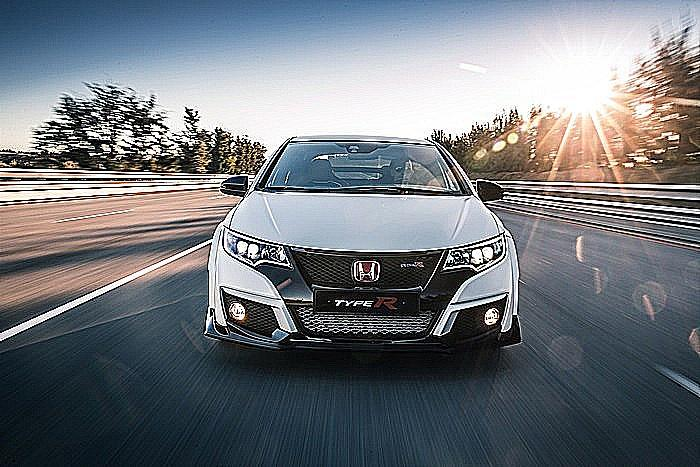Car hood: (228, 187, 508, 254)
Front bumper: (198, 250, 531, 358)
Headlight - -L-: (438, 229, 521, 279)
Headlight - -R-: (216, 220, 298, 274)
Side mirror - -L-: (470, 172, 511, 210)
Side mirror - -R-: (216, 173, 256, 202)
